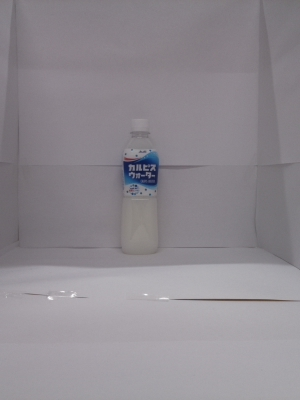カルピス: (112, 115, 170, 261)
